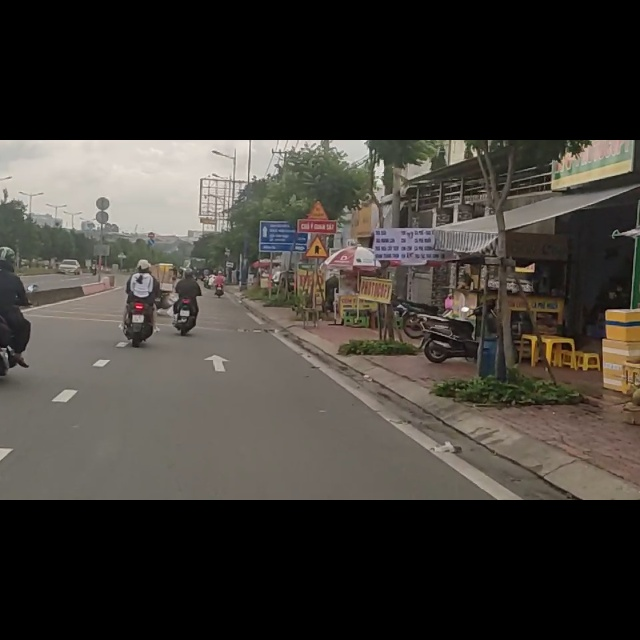bien_nguy_hiem: (303, 168, 331, 210)
